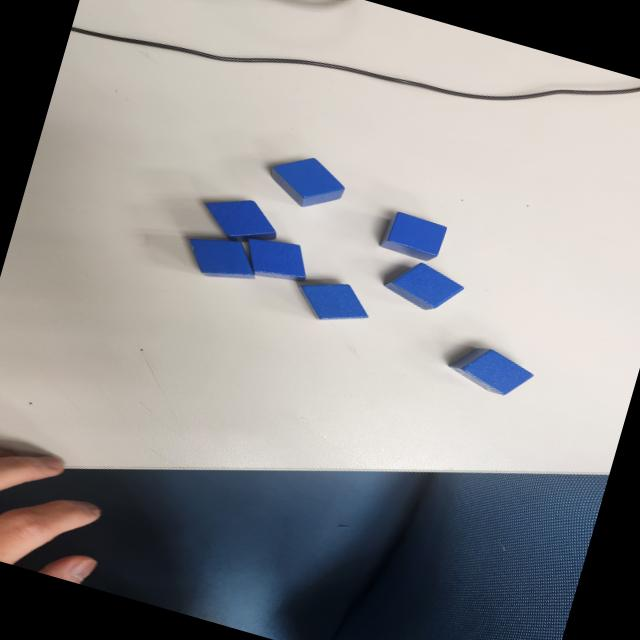blue: (262, 147, 352, 218), (443, 338, 538, 404), (378, 253, 468, 319), (196, 187, 284, 253), (290, 271, 376, 333), (180, 227, 264, 289), (237, 230, 314, 289), (377, 208, 448, 264)
